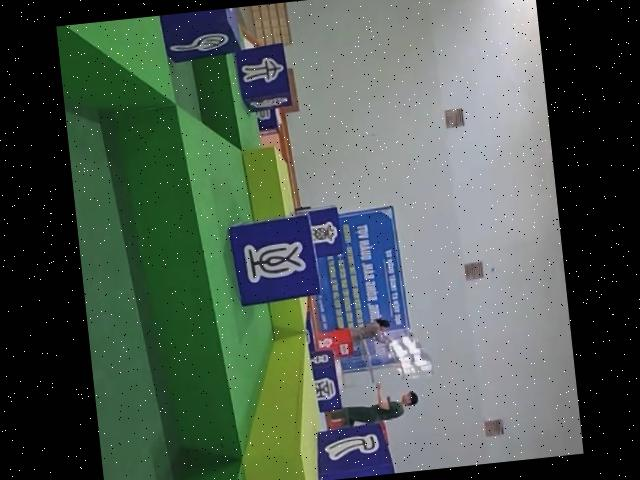R2 Fake Blue: (224, 211, 320, 306), (311, 420, 396, 480), (150, 8, 240, 63), (233, 40, 291, 109), (302, 203, 345, 257), (310, 344, 344, 410)
